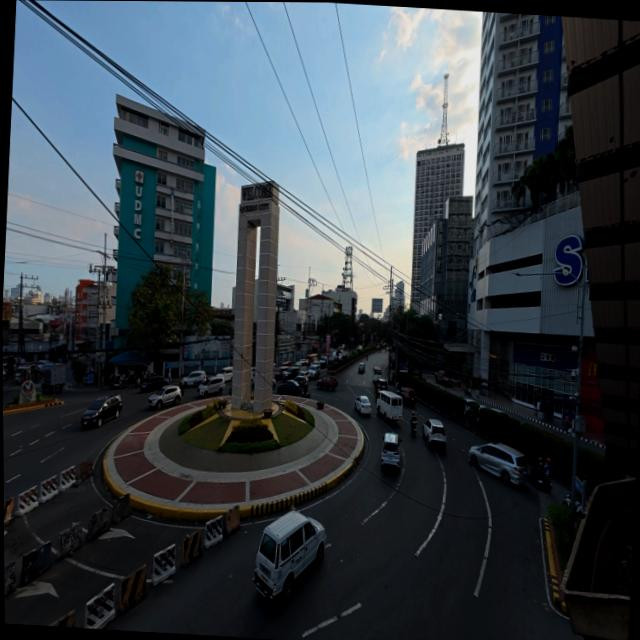car: (253, 512, 326, 598), (468, 443, 526, 484), (81, 395, 122, 427), (147, 384, 181, 409), (377, 391, 402, 421), (422, 419, 446, 449), (381, 433, 400, 470), (197, 376, 225, 398), (140, 376, 169, 392), (276, 379, 302, 396), (183, 370, 206, 387), (397, 387, 416, 407), (317, 375, 338, 391), (355, 396, 372, 415), (464, 398, 478, 417), (283, 366, 300, 380), (375, 378, 388, 395), (309, 362, 321, 380), (489, 408, 510, 418), (294, 372, 309, 386), (275, 366, 289, 380), (221, 367, 233, 382), (373, 367, 382, 381), (298, 369, 309, 380), (319, 356, 327, 368), (37, 360, 48, 368), (358, 363, 365, 374), (357, 345, 363, 352), (252, 367, 255, 381)
motorcycle: (528, 462, 552, 493), (110, 375, 124, 390), (575, 492, 583, 516), (124, 373, 137, 386), (299, 387, 311, 399), (411, 419, 417, 436), (179, 381, 185, 395), (0, 379, 4, 395), (465, 386, 472, 395)
vans: (253, 512, 325, 597), (378, 391, 402, 420), (295, 360, 309, 370)
